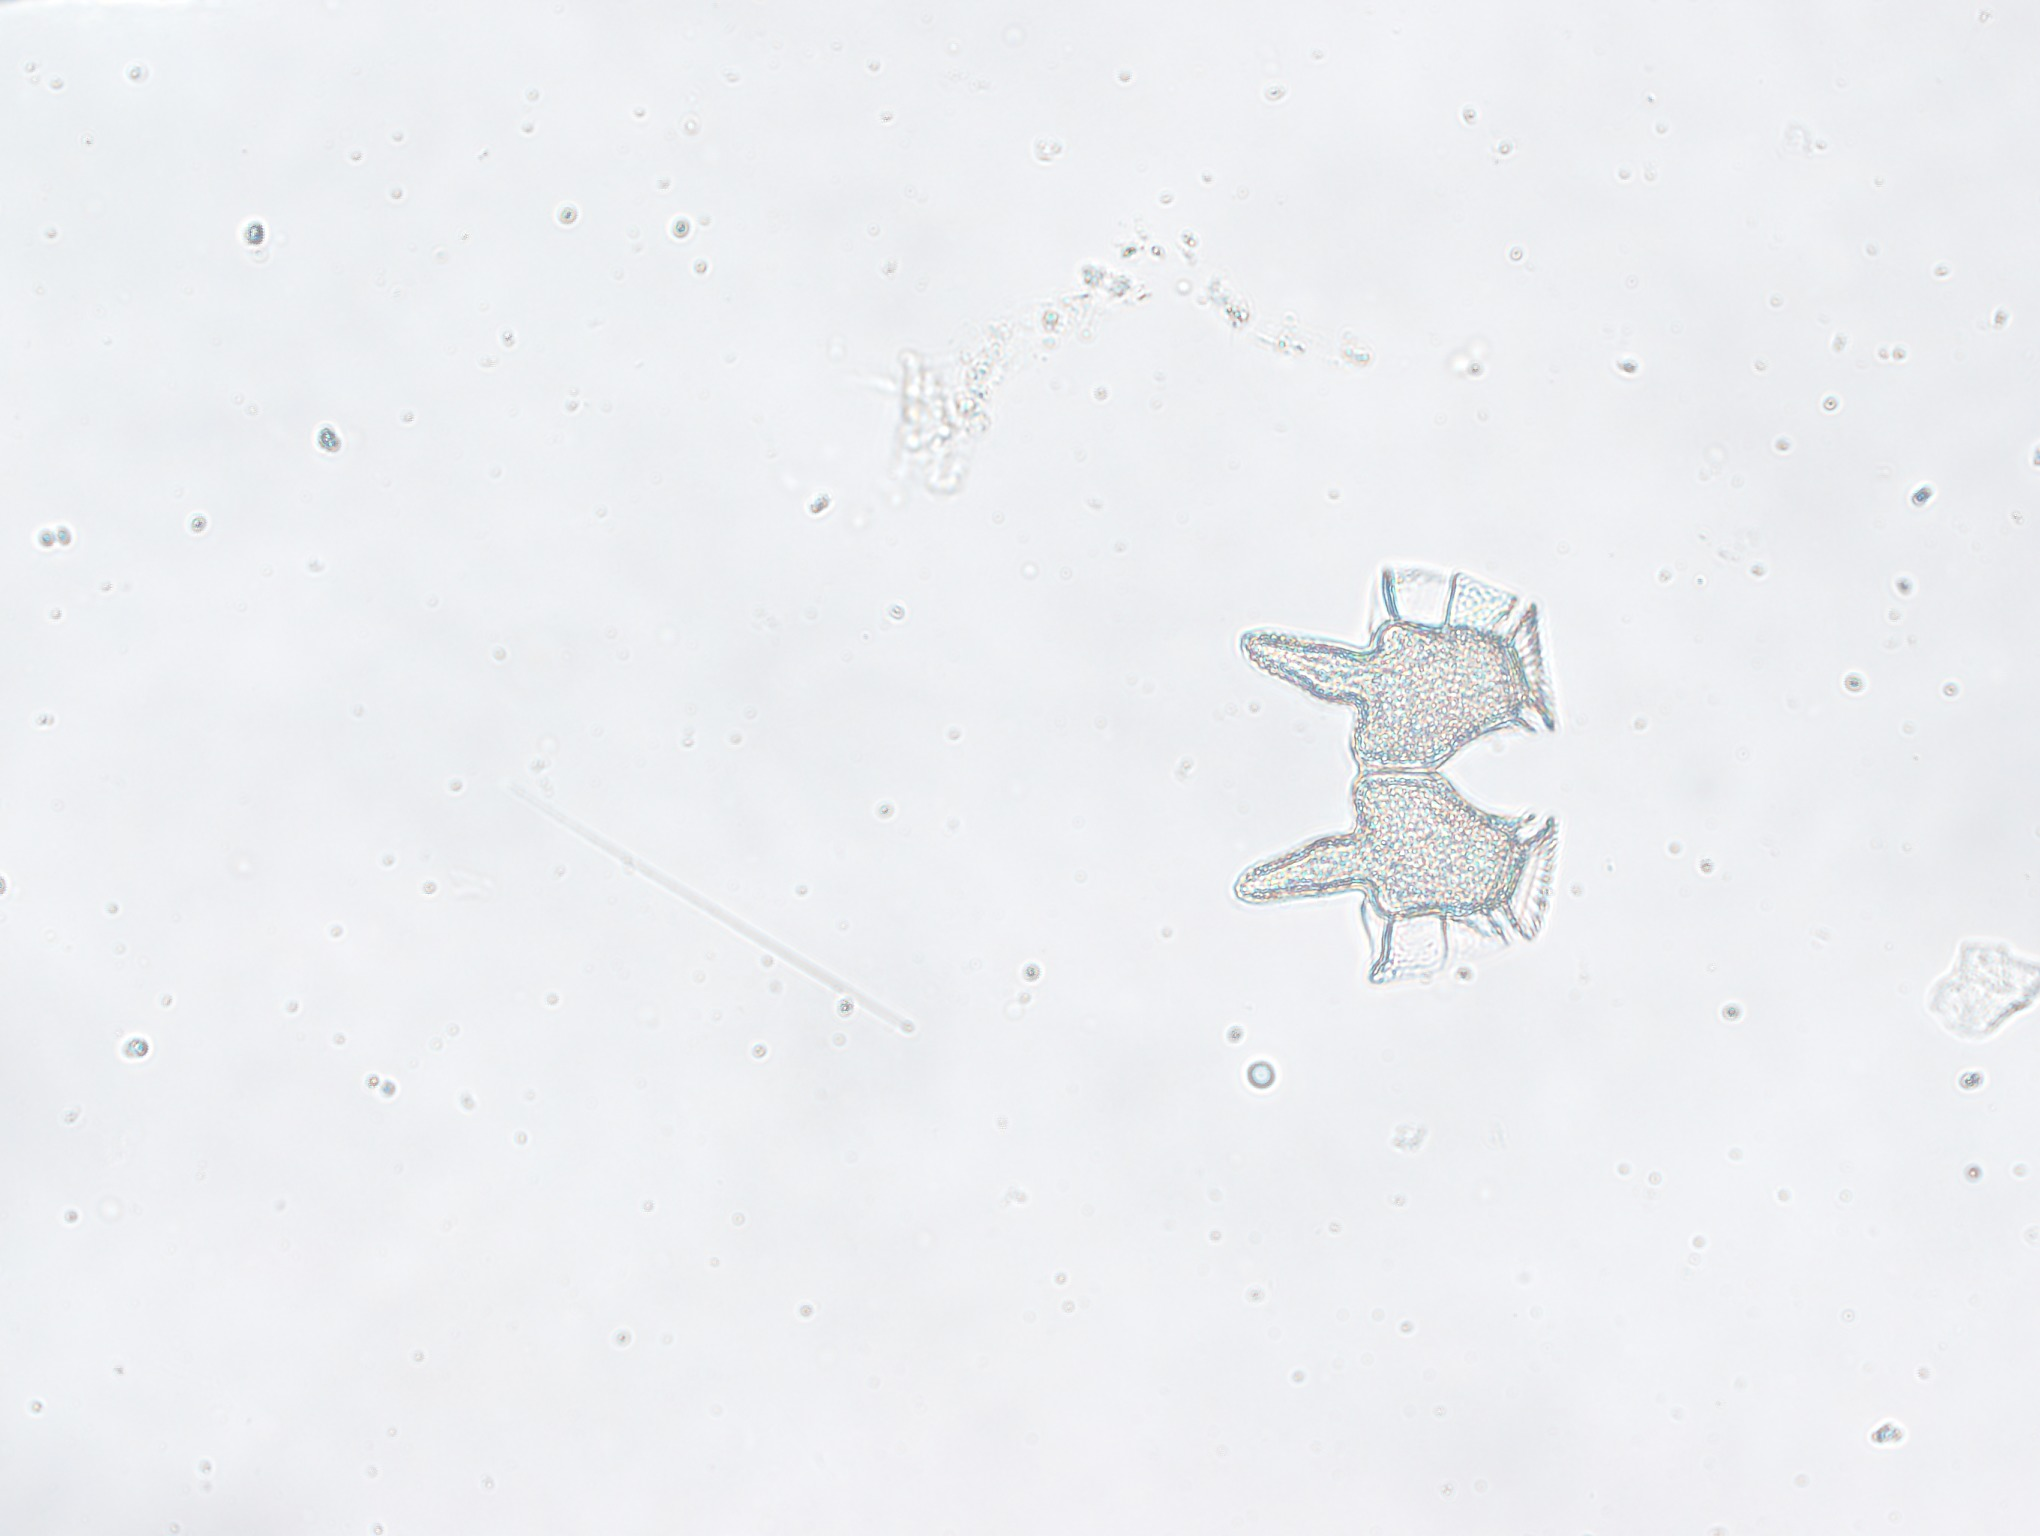dinophysis caudata: (1227, 541, 1571, 1000)
